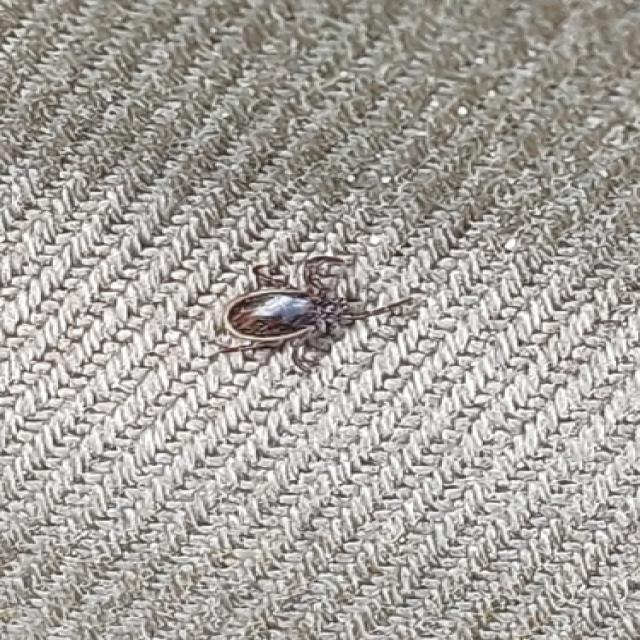Ixodes Ricinus-M: (224, 264, 411, 356)
